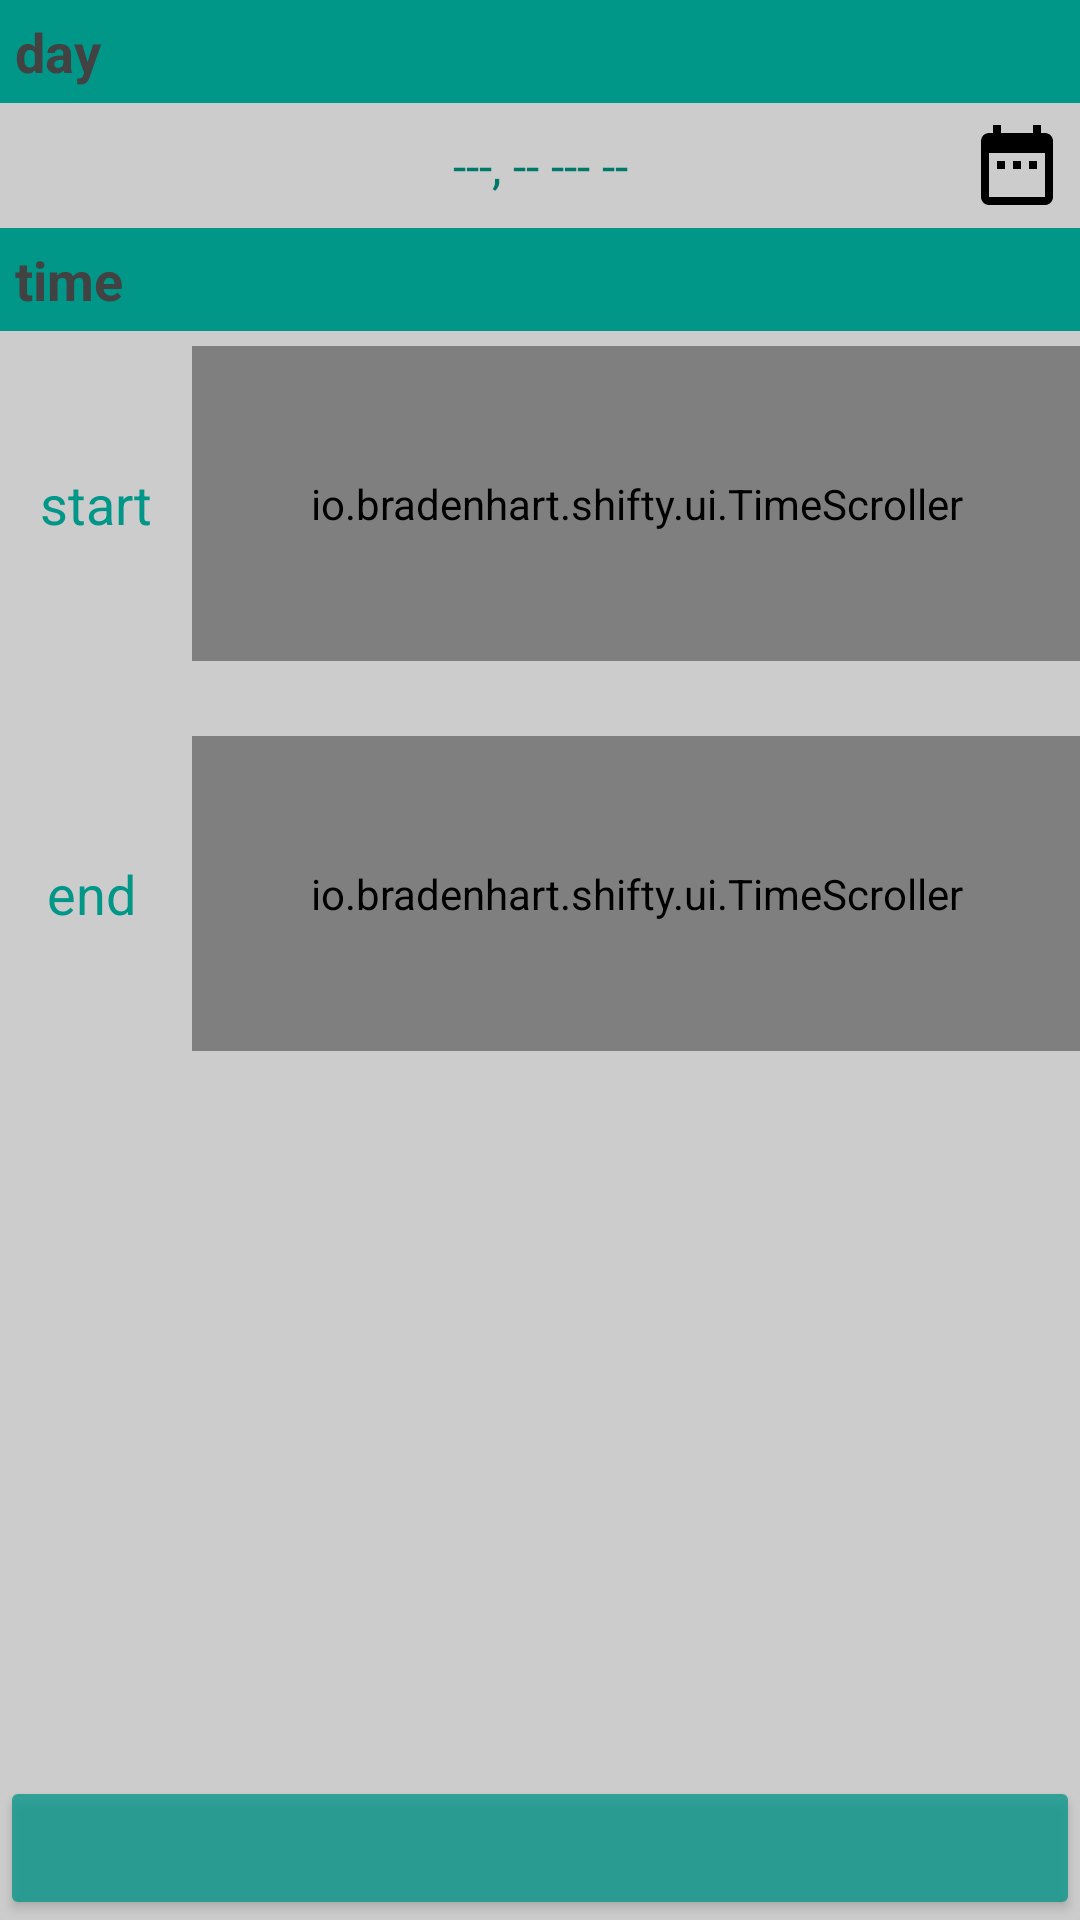

Icon bounding boxes for this 1080×1920 phone screenshot, format (x1, y1, x2, y2):
date: (981, 125, 1053, 205)
